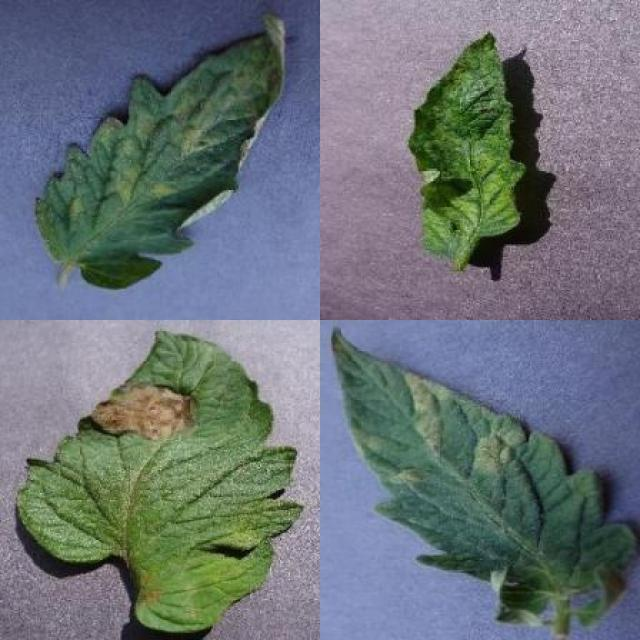Late Blight: (15, 328, 305, 632)
Leaf Mold: (331, 326, 638, 628), (38, 15, 286, 292)
Mosaic Virus: (406, 30, 528, 256)
